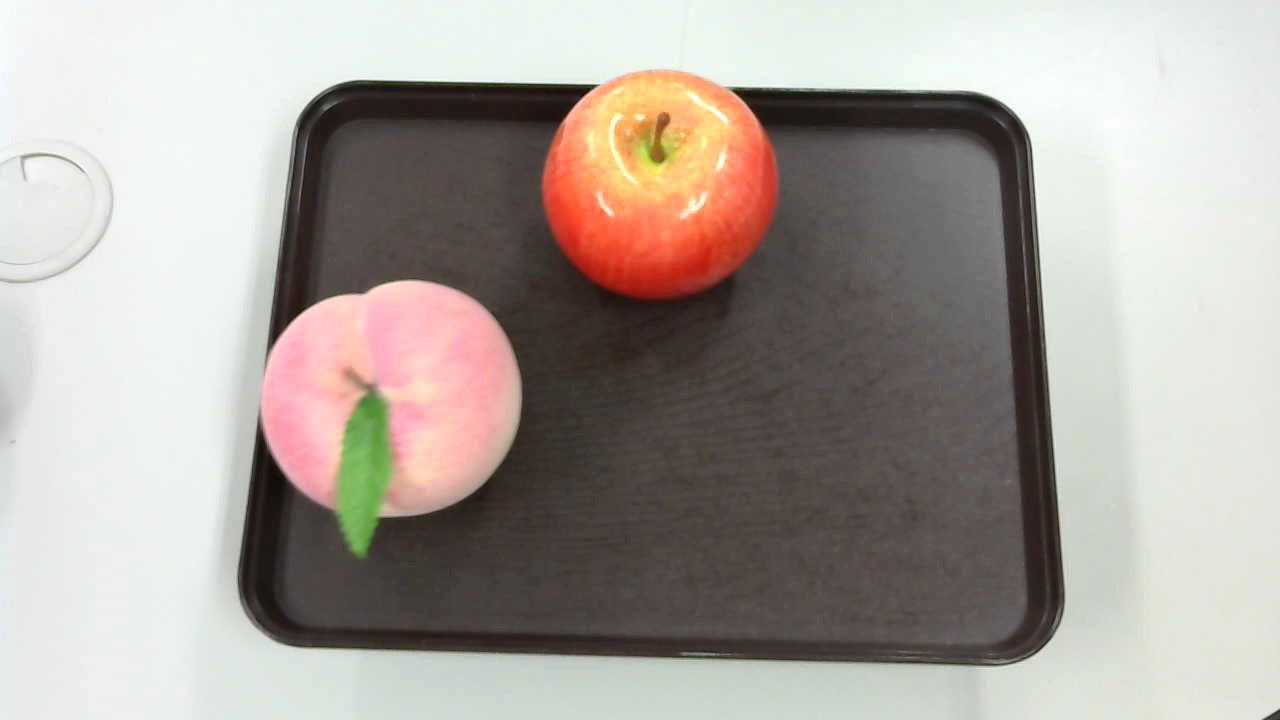peach: (253, 273, 533, 551)
red apple: (540, 68, 782, 305)
